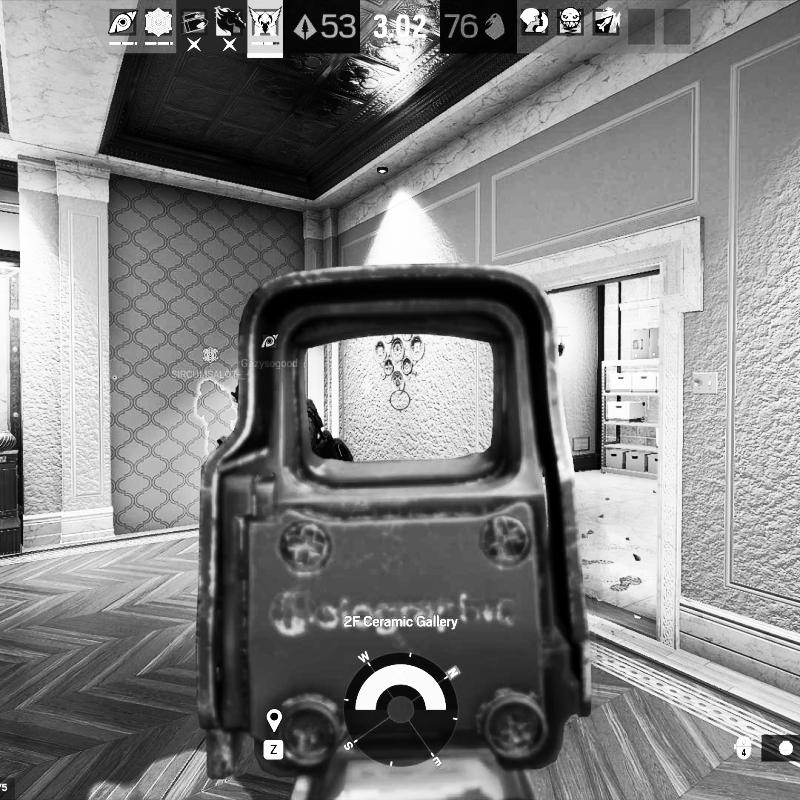Character: (306, 395, 354, 463)
Friend_label: (170, 346, 242, 381), (241, 331, 300, 369)
